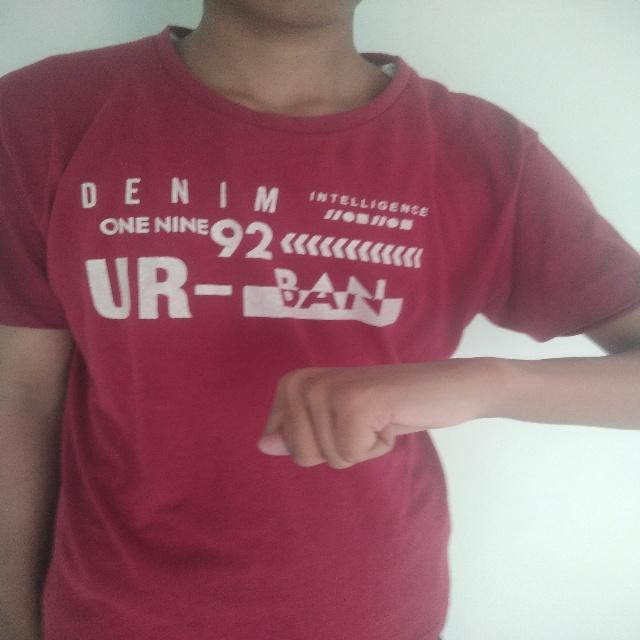Dulya: (250, 358, 484, 474)
